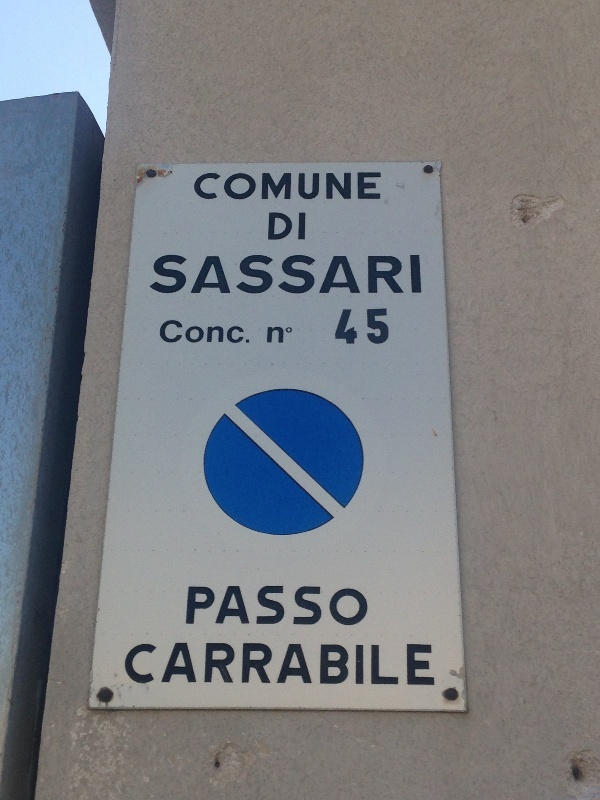text: (161, 251, 176, 300), (177, 251, 192, 300), (193, 251, 208, 300), (209, 251, 224, 300), (225, 251, 240, 300), (241, 251, 256, 300), (257, 251, 272, 300), (273, 251, 288, 300), (289, 251, 304, 300), (305, 251, 320, 300), (321, 251, 336, 300), (337, 251, 352, 300), (353, 251, 368, 300), (369, 251, 384, 300), (385, 251, 400, 300), (401, 251, 416, 300), (129, 640, 144, 689), (145, 640, 160, 689), (161, 640, 176, 689), (177, 640, 192, 689), (193, 640, 208, 689), (209, 640, 224, 689), (225, 640, 240, 689), (241, 640, 256, 689), (257, 640, 272, 689), (273, 640, 288, 689), (289, 640, 304, 689), (305, 640, 320, 689), (321, 640, 336, 689), (337, 640, 352, 689), (353, 640, 368, 689), (369, 640, 384, 689), (385, 640, 400, 689), (401, 640, 416, 689), (417, 640, 432, 689), (353, 586, 369, 630), (193, 586, 208, 630), (209, 586, 224, 630), (225, 586, 240, 630), (241, 586, 256, 630), (257, 586, 272, 630), (273, 586, 288, 630), (289, 586, 304, 630), (305, 586, 320, 630), (321, 586, 336, 630), (337, 586, 352, 630), (353, 306, 368, 348), (369, 306, 384, 348), (209, 171, 224, 202), (225, 171, 240, 202), (241, 171, 256, 202), (257, 171, 272, 202), (273, 171, 288, 202), (289, 171, 304, 202), (305, 171, 320, 202), (321, 171, 336, 202), (337, 171, 352, 202), (353, 171, 368, 202), (273, 211, 288, 241), (289, 211, 304, 241), (161, 319, 176, 346), (177, 319, 192, 346), (193, 319, 208, 346), (209, 319, 224, 346), (225, 319, 240, 346), (369, 171, 382, 202), (343, 306, 352, 348), (196, 171, 208, 202), (273, 325, 288, 346), (417, 251, 423, 300), (241, 319, 251, 346), (433, 640, 438, 689), (385, 306, 390, 348), (156, 251, 160, 300), (189, 586, 192, 630), (268, 325, 272, 346), (289, 325, 293, 346), (270, 211, 272, 241), (305, 211, 306, 241)
